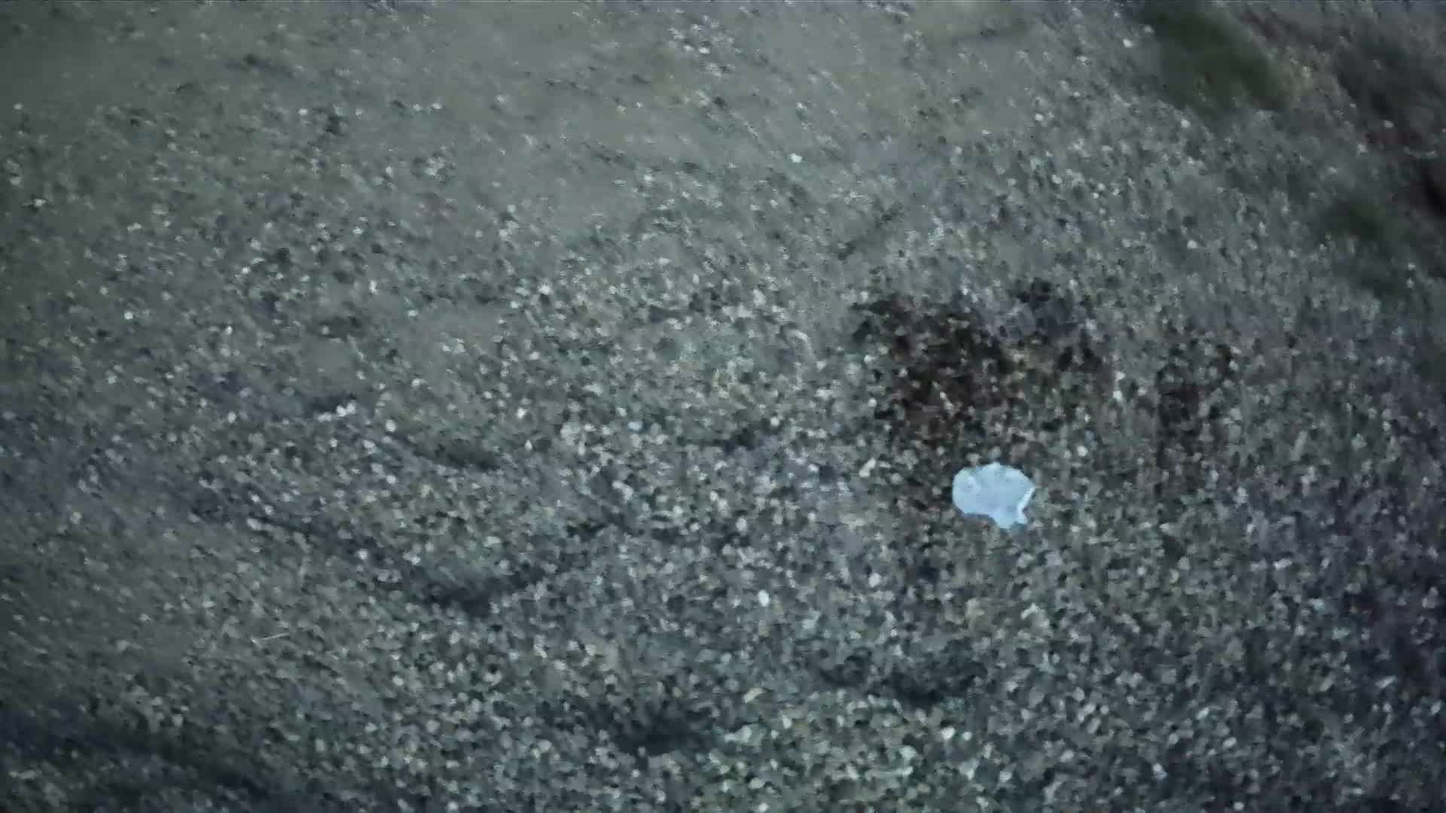Target: (951, 457, 1038, 533)
